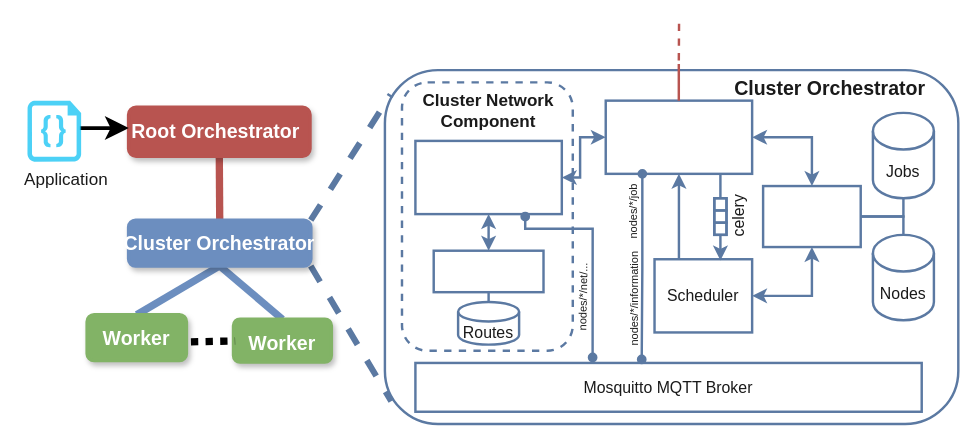
Image size: 980x445. Some labels were removed from this diagram. The shapes that lost their labels are listed below. From the top down, each one's centre as x and y in pixels, then its label:
(678,136): System Manager
(488,177): Cluster Service Manager
(811,216): mongo
(488,271): mongo net
